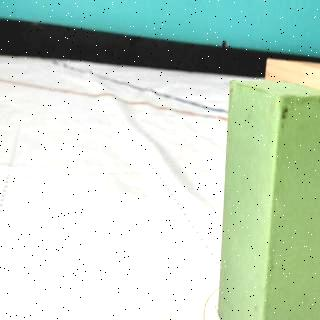greenbox: (217, 77, 320, 320)
